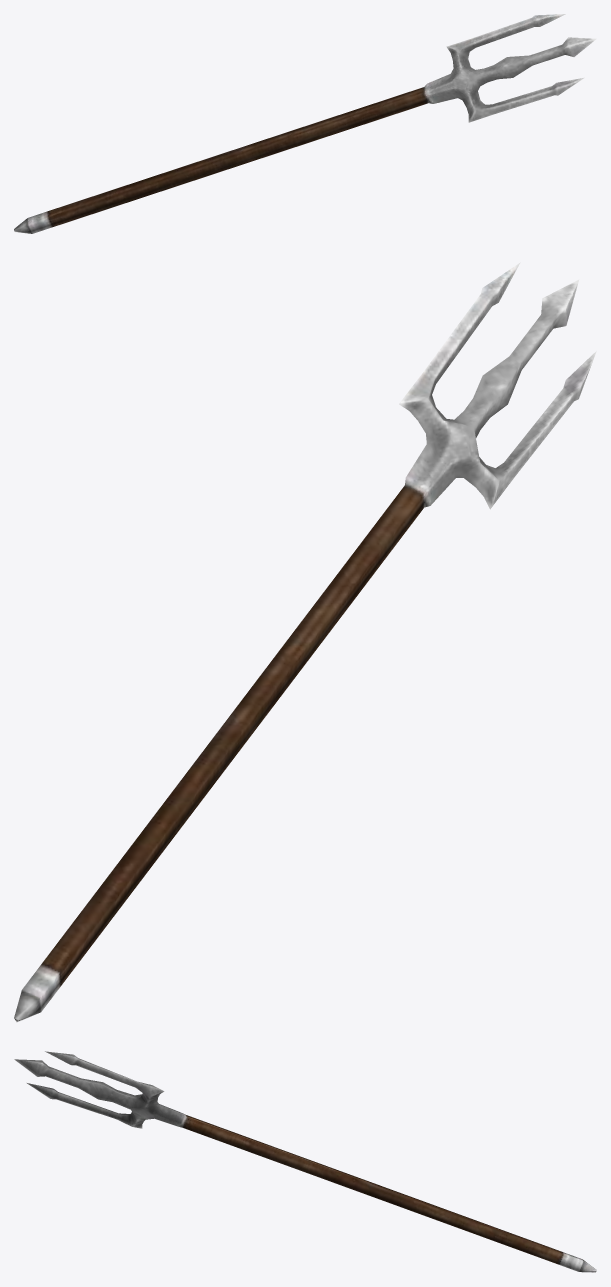
Rendered from rider-weapon-slice-copperweapons.glb.
The picture shows the model from 3 angles, top to bottom: view 1: azimuth 90°, elevation 25°; view 2: azimuth 150°, elevation 25°; view 3: azimuth 270°, elevation 25°; orthographic projection. The views are drawn at different scales.
Size of the model in its own units: 0.203 by 0.9249 by 2.22.
1 material, 1 textured.
